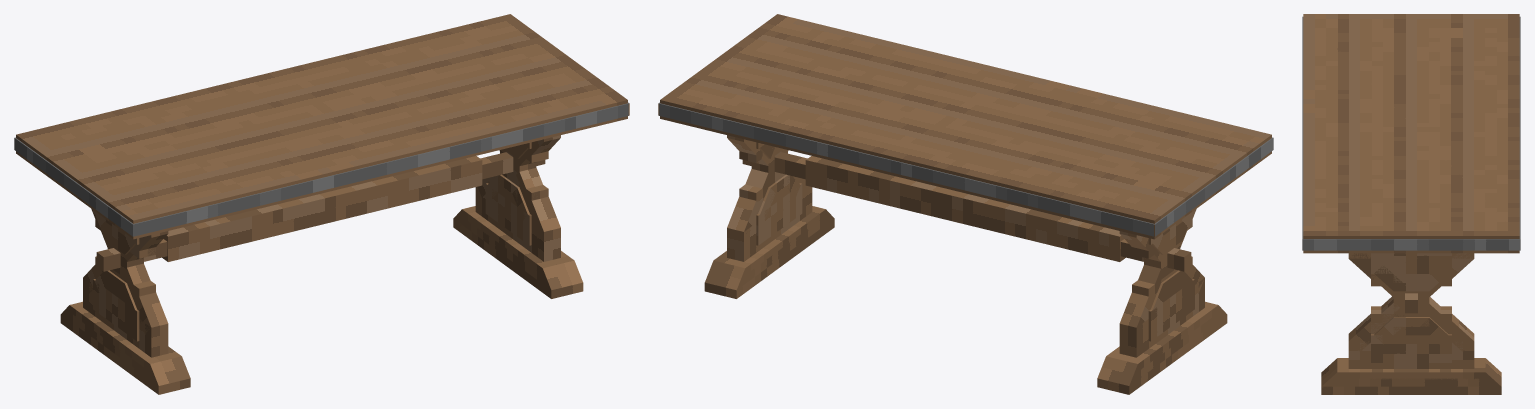
Rendered from table.gltf.
3 views of the same model, side by side, from view 1: azimuth 30°, elevation 25°; view 2: azimuth 150°, elevation 25°; view 3: azimuth 270°, elevation 25° (orthographic). The views are drawn at different scales.
Visible parts, largest first — view 1: cube (×20); view 2: cube (×20); view 3: cube (×29).
Part boxes in pixels (x1,y1,x2,y2): cube (×20): [14, 14, 628, 394]; cube (×20): [659, 14, 1273, 394]; cube (×29): [1302, 14, 1520, 394].
Bounding box in the file's own units: 2.93 × 1.07 × 1.21.
Materials: 1 (1 with a texture image).
